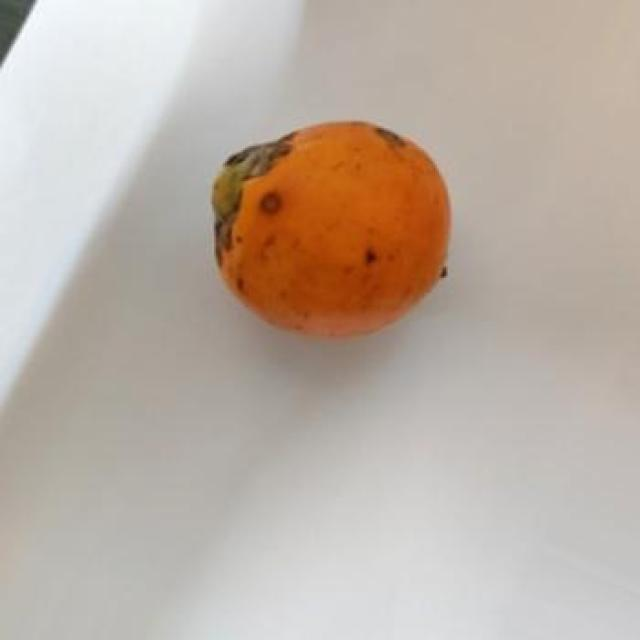good: (210, 121, 453, 342)
